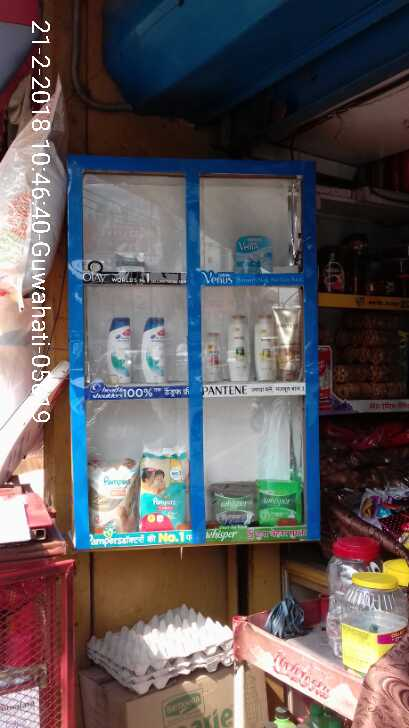venus: (229, 232, 270, 273)
